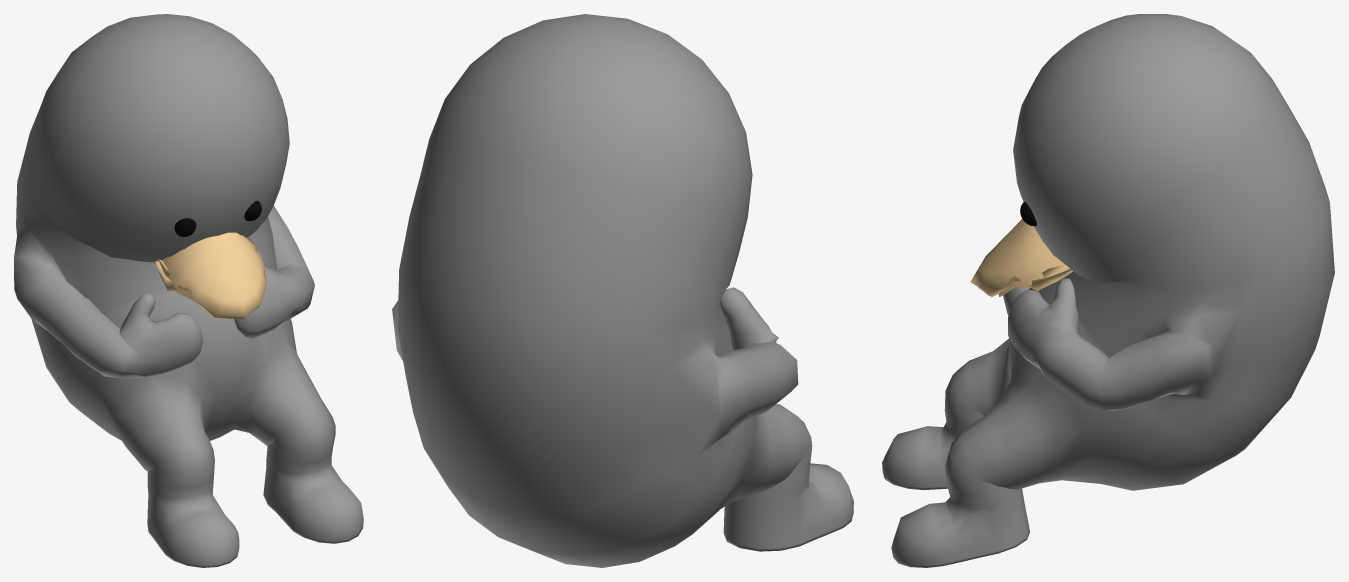
File: duck_sit1.FBX
3 renders of one model, left to right at view 1: azimuth 30°, elevation 25°; view 2: azimuth 150°, elevation 25°; view 3: azimuth 270°, elevation 25°, orthographic. The views are drawn at different scales.
Visible parts, largest first — view 1: duck_sitdown; view 2: duck_sitdown; view 3: duck_sitdown.
Boxes of the visible parts, x1,y1,x2,y2 form: duck_sitdown: (14,14,363,567); duck_sitdown: (392,14,853,567); duck_sitdown: (882,14,1334,567).
Bounding box in the file's own units: 78.71 × 127 × 106.
